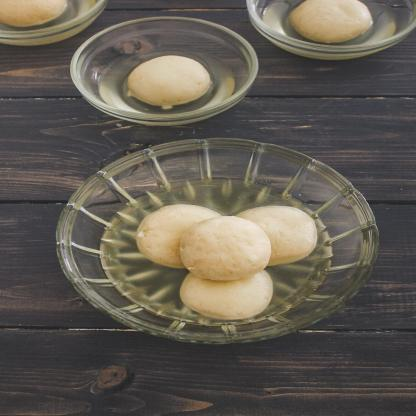rasgulla: (180, 216, 270, 280), (136, 204, 221, 269), (236, 205, 317, 266), (179, 269, 274, 319), (127, 54, 211, 106), (288, 0, 373, 42), (0, 0, 68, 27)
